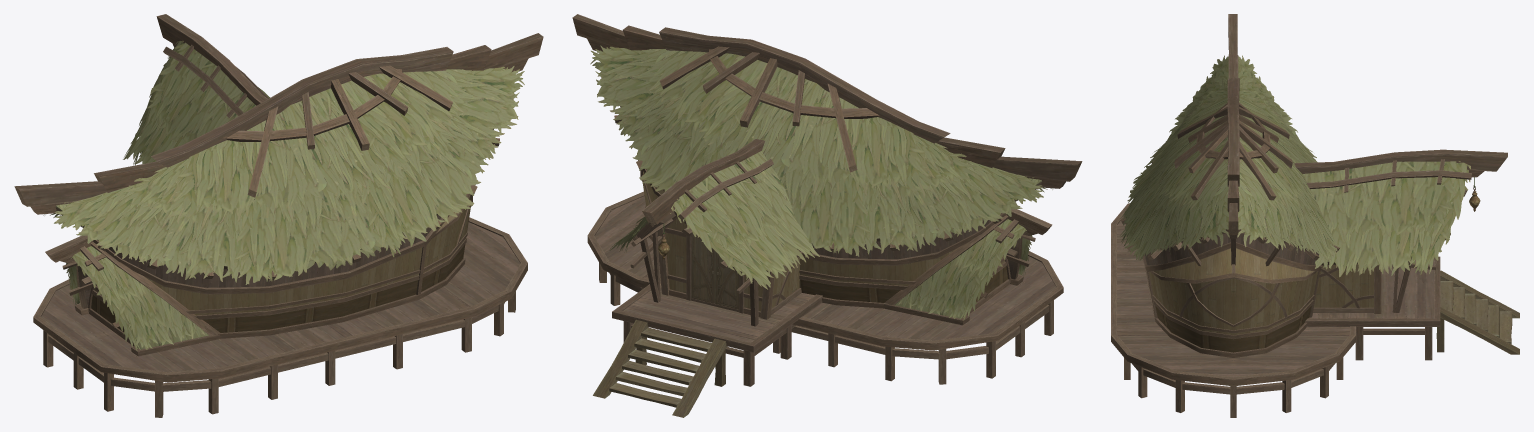
The model's file is Homeworld_Exterior_Xm_Build_Lowhouse_02_Lod0.fbx.
3 views of the same model, side by side, from view 1: azimuth 30°, elevation 25°; view 2: azimuth 150°, elevation 25°; view 3: azimuth 270°, elevation 25° (orthographic). The views are drawn at different scales.
Visible parts, largest first — view 1: Area_Xm_Build_XKC_Comp_Lowhouse_B_01_Lod0(Clone), Area_Xm_Build_XKC_Comp_Lowhouse_B_02_Lod0(Clone), Area_Xm_Build_XKC_Comp_Lowhouse_01_Lod0; view 2: Area_Xm_Build_XKC_Comp_Lowhouse_B_02_Lod0(Clone), Area_Xm_Build_XKC_Comp_Lowhouse_B_01_Lod0(Clone), Area_Xm_Build_XKC_Comp_Lowhouse_01_Lod0, Area_Xm_Stairs_Common_Lowhouse_A_Lod0(Clone); view 3: Area_Xm_Build_XKC_Comp_Lowhouse_B_01_Lod0(Clone), Area_Xm_Build_XKC_Comp_Lowhouse_01_Lod0, Area_Xm_Build_XKC_Comp_Lowhouse_B_02_Lod0(Clone), Area_Xm_Stairs_Common_Lowhouse_A_Lod0(Clone).
Part boxes in pixels (bbox=[...]): Area_Xm_Build_XKC_Comp_Lowhouse_B_01_Lod0(Clone): bbox=[14, 33, 543, 417]; Area_Xm_Build_XKC_Comp_Lowhouse_B_02_Lod0(Clone): bbox=[43, 66, 524, 350]; Area_Xm_Build_XKC_Comp_Lowhouse_01_Lod0: bbox=[123, 14, 270, 165]; Area_Xm_Build_XKC_Comp_Lowhouse_B_02_Lod0(Clone): bbox=[590, 45, 1052, 320]; Area_Xm_Build_XKC_Comp_Lowhouse_B_01_Lod0(Clone): bbox=[572, 14, 1082, 384]; Area_Xm_Build_XKC_Comp_Lowhouse_01_Lod0: bbox=[609, 139, 822, 386]; Area_Xm_Stairs_Common_Lowhouse_A_Lod0(Clone): bbox=[593, 319, 727, 417]; Area_Xm_Build_XKC_Comp_Lowhouse_B_01_Lod0(Clone): bbox=[1111, 14, 1355, 417]; Area_Xm_Build_XKC_Comp_Lowhouse_01_Lod0: bbox=[1294, 149, 1507, 360]; Area_Xm_Build_XKC_Comp_Lowhouse_B_02_Lod0(Clone): bbox=[1119, 55, 1341, 260]; Area_Xm_Stairs_Common_Lowhouse_A_Lod0(Clone): bbox=[1436, 270, 1519, 354].
Size of what is drawn, in the model's own units: 16.68 by 7.83 by 12.54.
